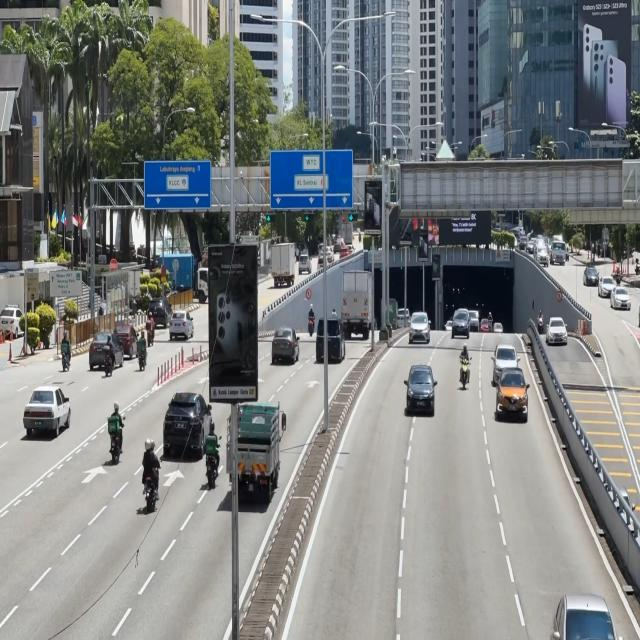Car: (228, 401, 288, 504), (164, 389, 213, 462), (23, 385, 73, 444), (399, 358, 438, 418), (342, 266, 374, 338), (494, 372, 530, 427), (88, 330, 125, 376), (316, 315, 348, 365), (495, 343, 521, 388), (272, 328, 301, 367), (114, 323, 140, 358), (547, 311, 570, 350), (148, 297, 175, 330), (409, 310, 432, 347), (170, 307, 195, 341), (450, 308, 470, 341), (612, 285, 632, 315)
